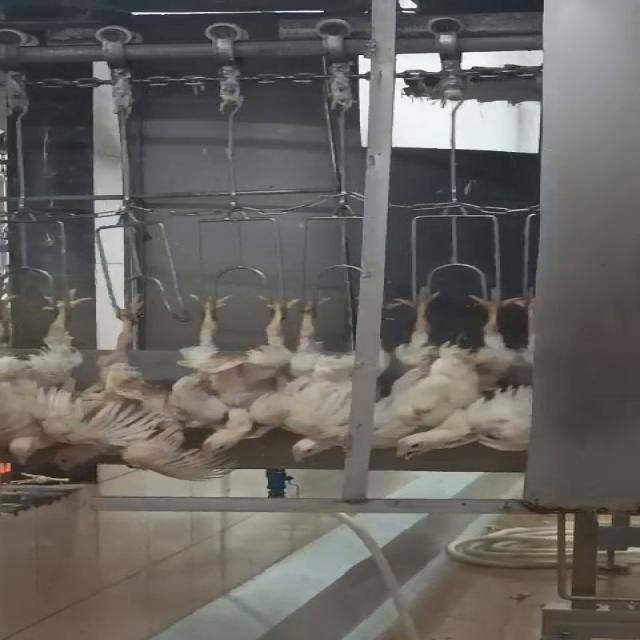chicken: (367, 285, 518, 460), (164, 290, 318, 458), (78, 302, 206, 478), (0, 284, 96, 476), (279, 290, 368, 466), (503, 295, 544, 456)
